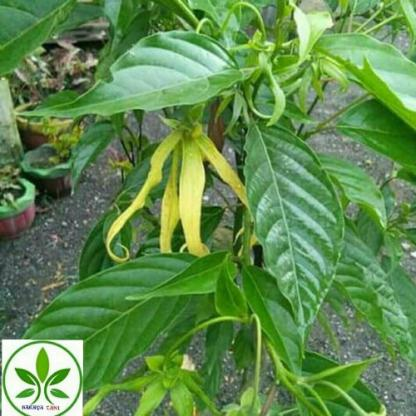Kenanga: (148, 120, 241, 244)
